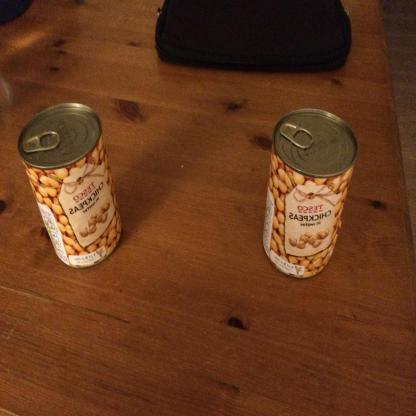metal: (17, 101, 123, 270), (261, 106, 360, 280)
